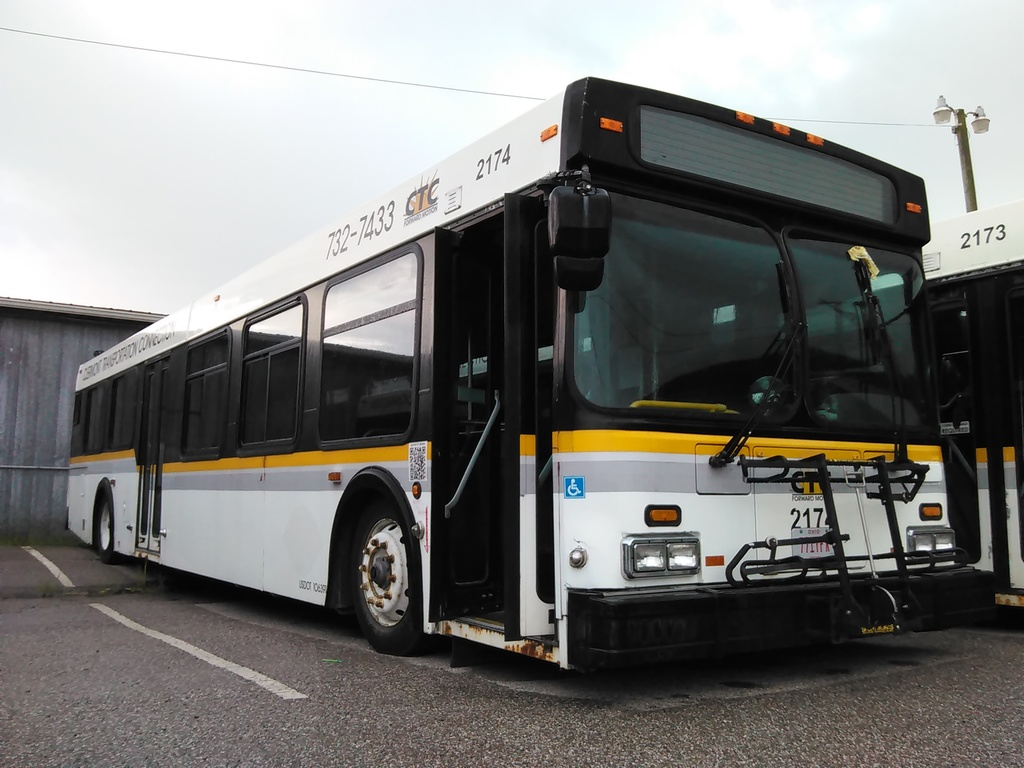Bus: (62, 71, 974, 669), (327, 201, 1023, 607)
